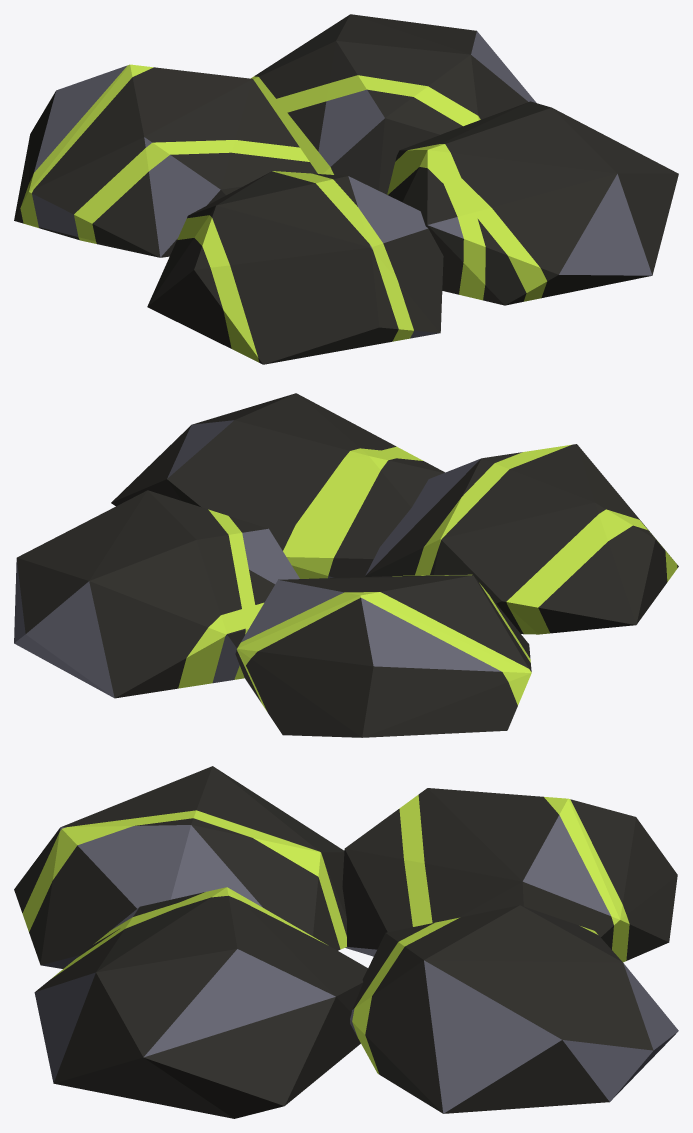
Rendered from minerai_uraninite_1.glb.
3 renders of one model, top to bottom at view 1: azimuth 30°, elevation 25°; view 2: azimuth 150°, elevation 25°; view 3: azimuth 270°, elevation 25°, orthographic. The views are drawn at different scales.
Visible parts, largest first — view 1: minerai_pechblende.004, minerai_autunite.004, minerai_charbon_brillant.008; view 2: minerai_pechblende.004, minerai_autunite.004, minerai_charbon_brillant.008; view 3: minerai_pechblende.004, minerai_charbon_brillant.008, minerai_autunite.004.
Boxes of the visible parts, x1,y1,x2,y2 form: minerai_pechblende.004: (14, 14, 678, 364); minerai_autunite.004: (20, 64, 547, 362); minerai_charbon_brillant.008: (32, 31, 652, 338); minerai_pechblende.004: (16, 393, 678, 737); minerai_autunite.004: (178, 444, 677, 710); minerai_charbon_brillant.008: (14, 420, 501, 698); minerai_pechblende.004: (14, 766, 677, 1118); minerai_charbon_brillant.008: (34, 815, 678, 1113); minerai_autunite.004: (22, 794, 629, 1074).
Size of the model in its own units: 0.5467 by 0.1164 by 0.5529.
